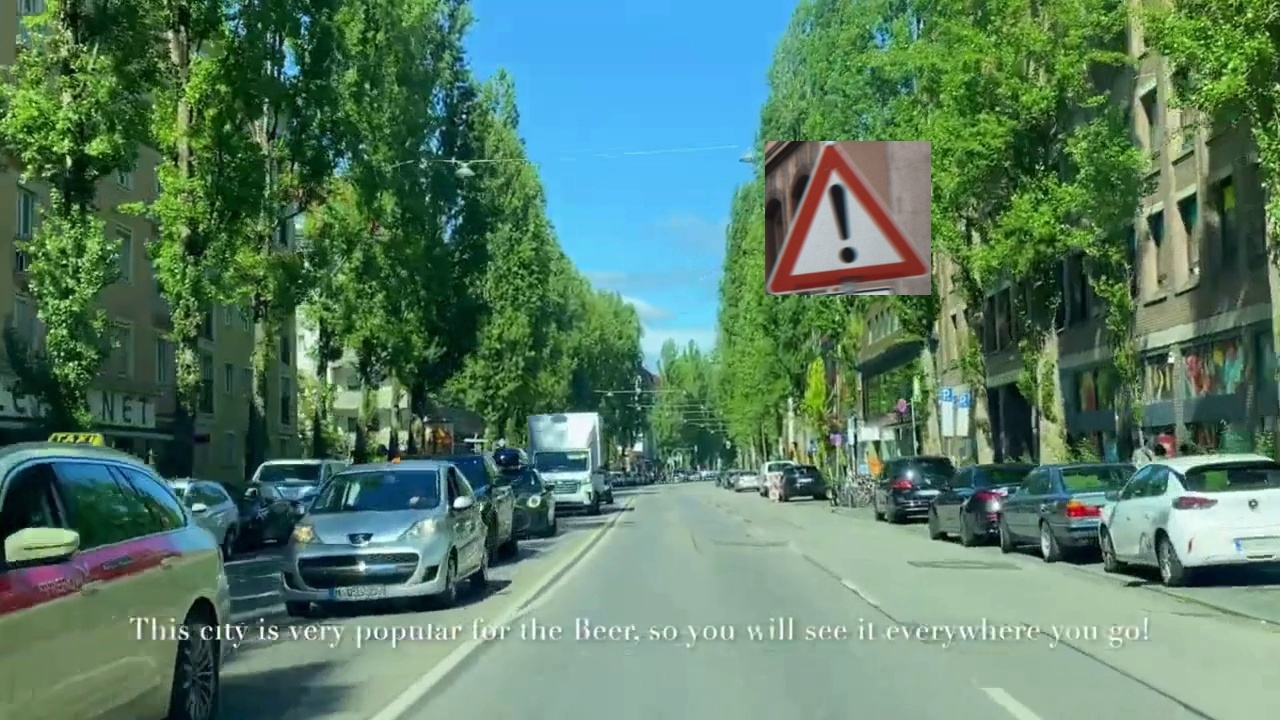Caution: (765, 141, 931, 295)
